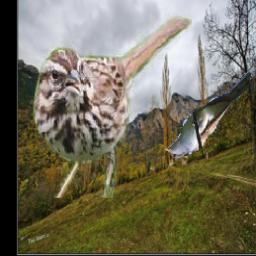Cuckoo: (164, 72, 253, 160)
Sparrow: (32, 15, 193, 199)
